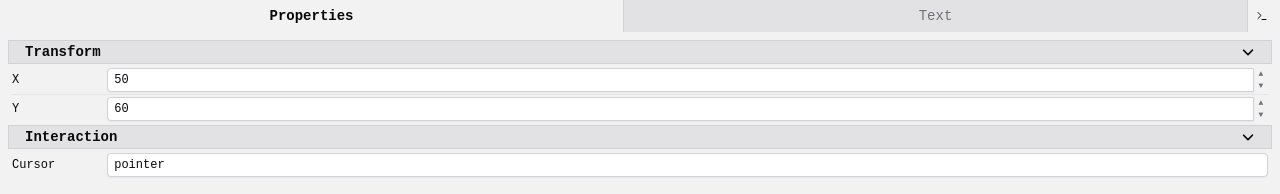
it: SceneProperties › tabs › waits for the first reading of a tab instead of guessing its fields
This screenshot has width=1280, height=194.
Click the text "Text".
click(936, 16)  # box left=624, top=0, right=1248, bottom=32
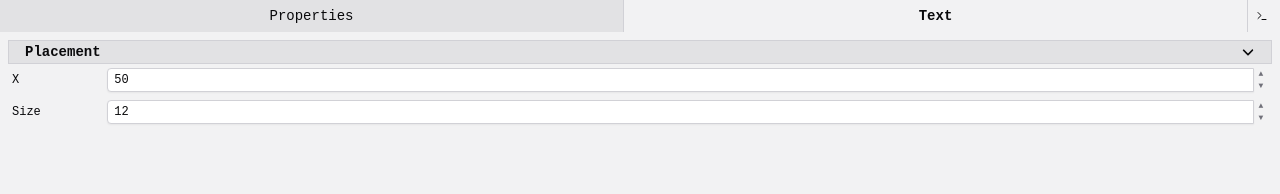
Expected: the text "Legacy size" is not shown
Expected: the text "Size" is shown, left=12, top=104, right=41, bottom=118
